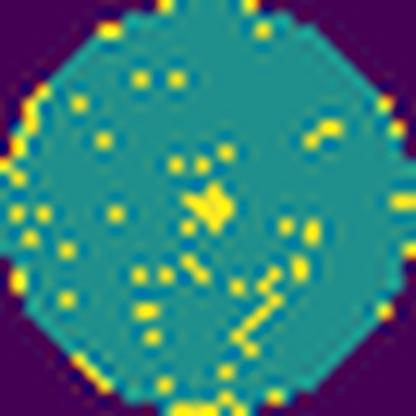Center: (178, 180, 242, 237)
